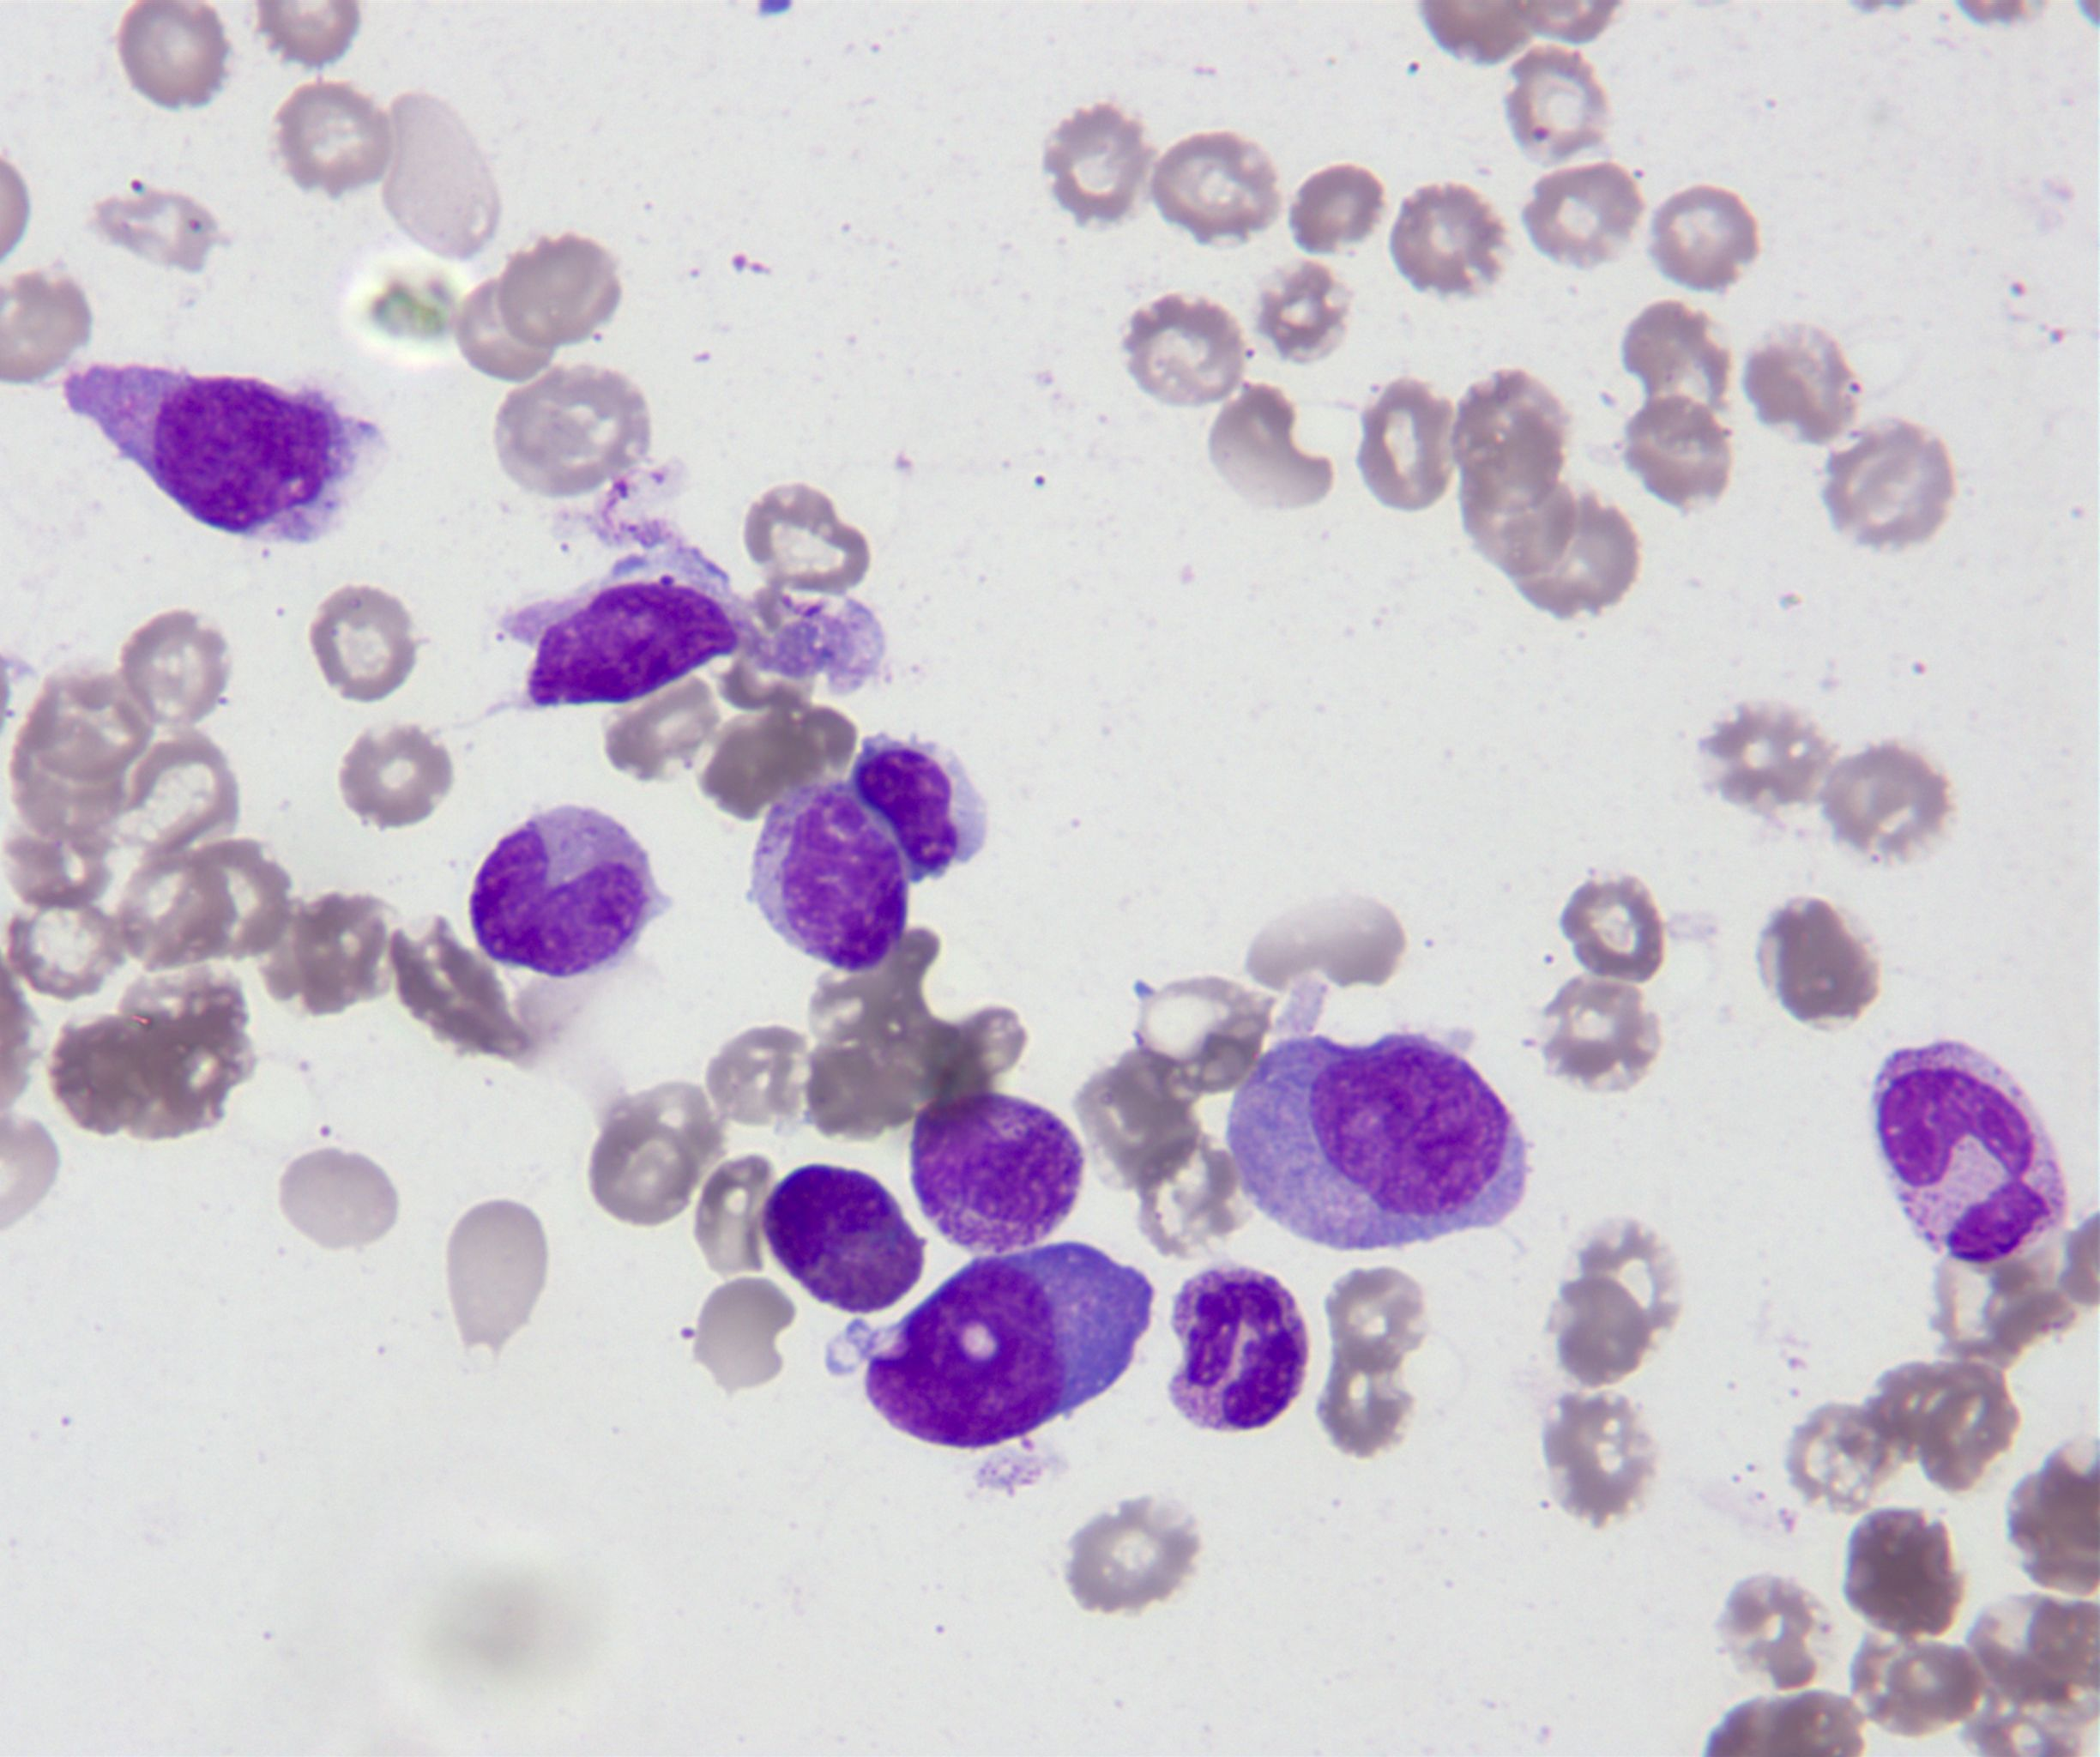2: (1223, 1031, 1530, 1256), (862, 1237, 1156, 1455)
3: (51, 356, 365, 544)
32: (846, 726, 991, 890)
4: (462, 799, 675, 984), (747, 775, 912, 977), (902, 1089, 1087, 1256), (755, 1162, 931, 1319)
5: (1863, 1035, 2079, 1268), (1167, 1261, 1313, 1439)
x: (497, 534, 753, 715)
